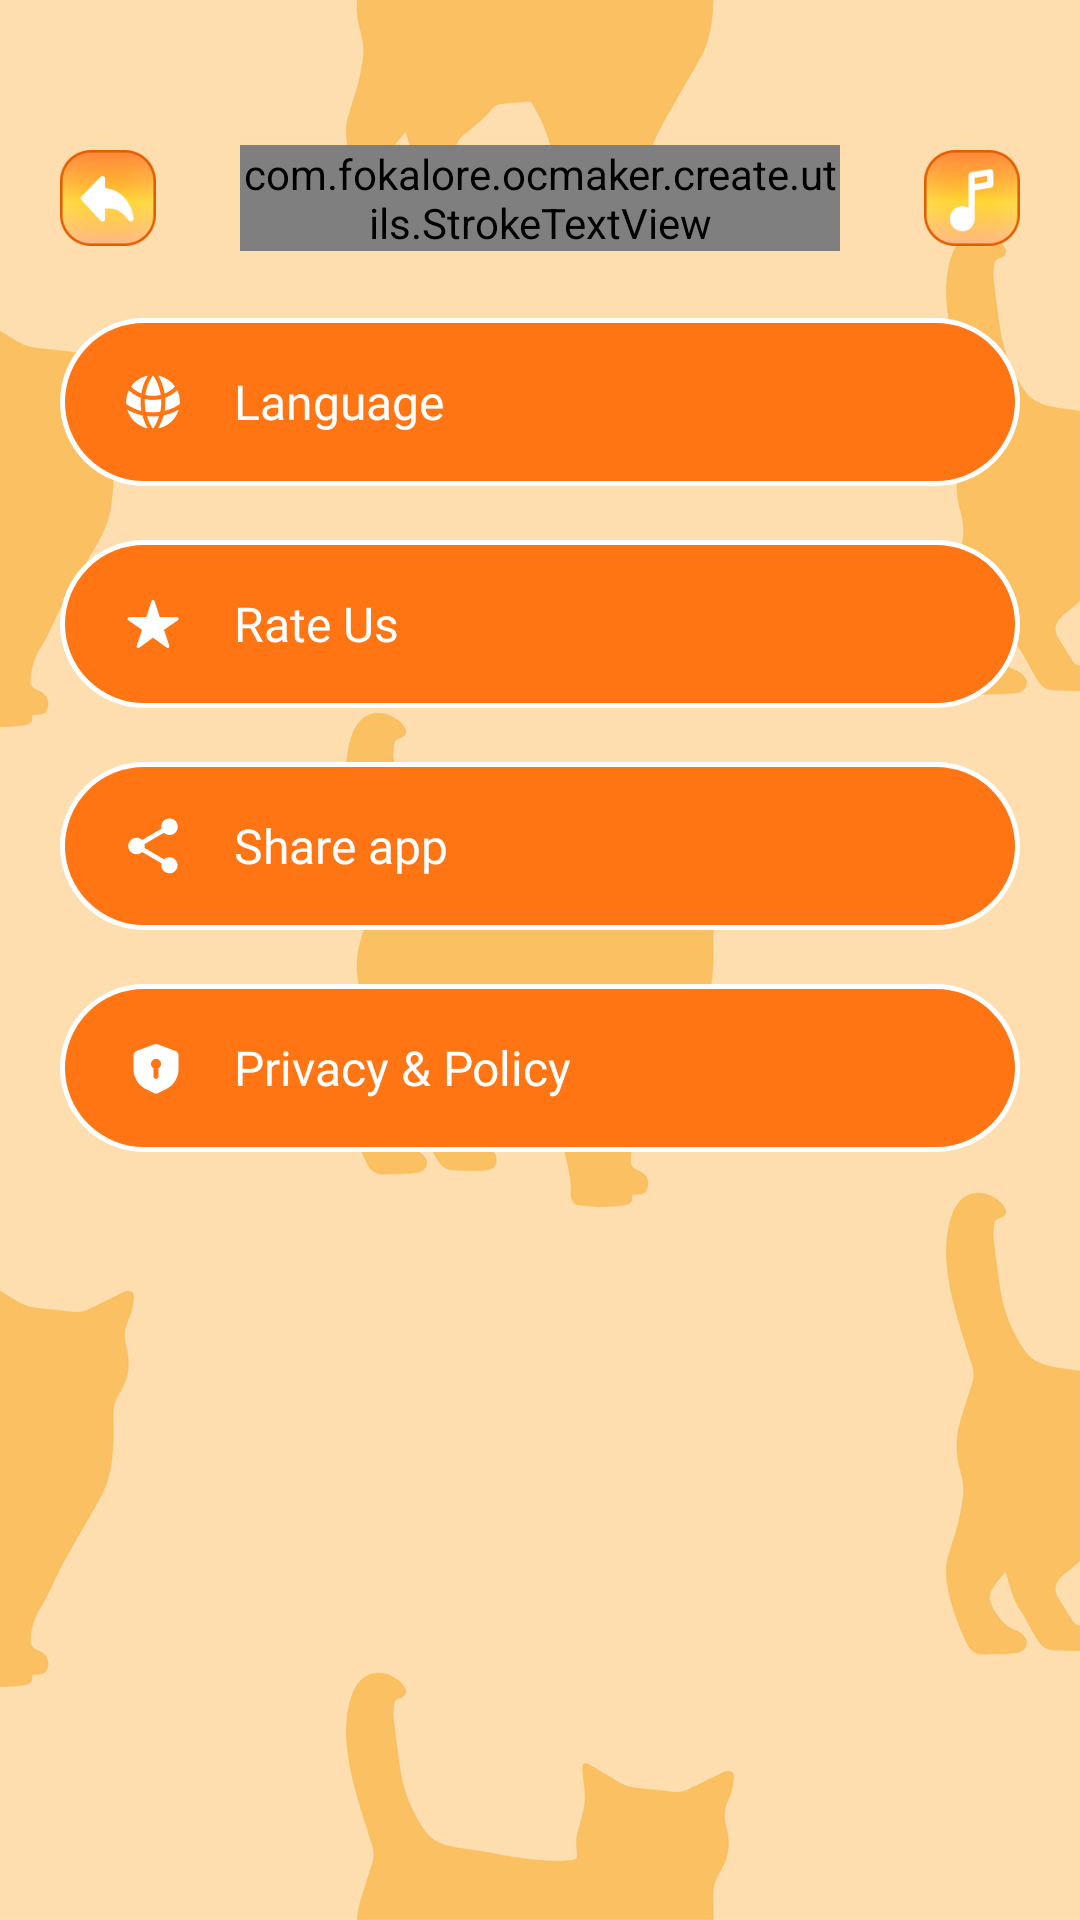

Screen size 1080px×1920px. Icon name, then its box in pixels as (left=x1, top=y1, right=x2, bottom=y2):
back app: (left=60, top=150, right=156, bottom=246)
lang set: (left=126, top=375, right=180, bottom=429)
music app: (left=924, top=150, right=1020, bottom=246)
policy set: (left=133, top=1044, right=179, bottom=1094)
reate set: (left=127, top=600, right=179, bottom=648)
share set: (left=128, top=818, right=178, bottom=874)
